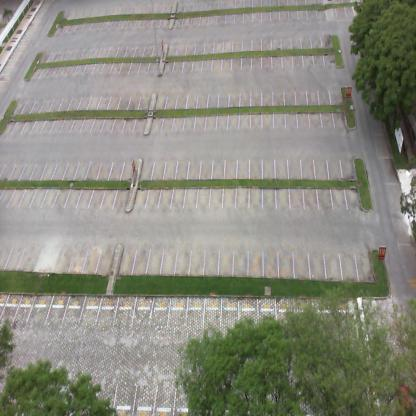car: (394, 380, 413, 415)
